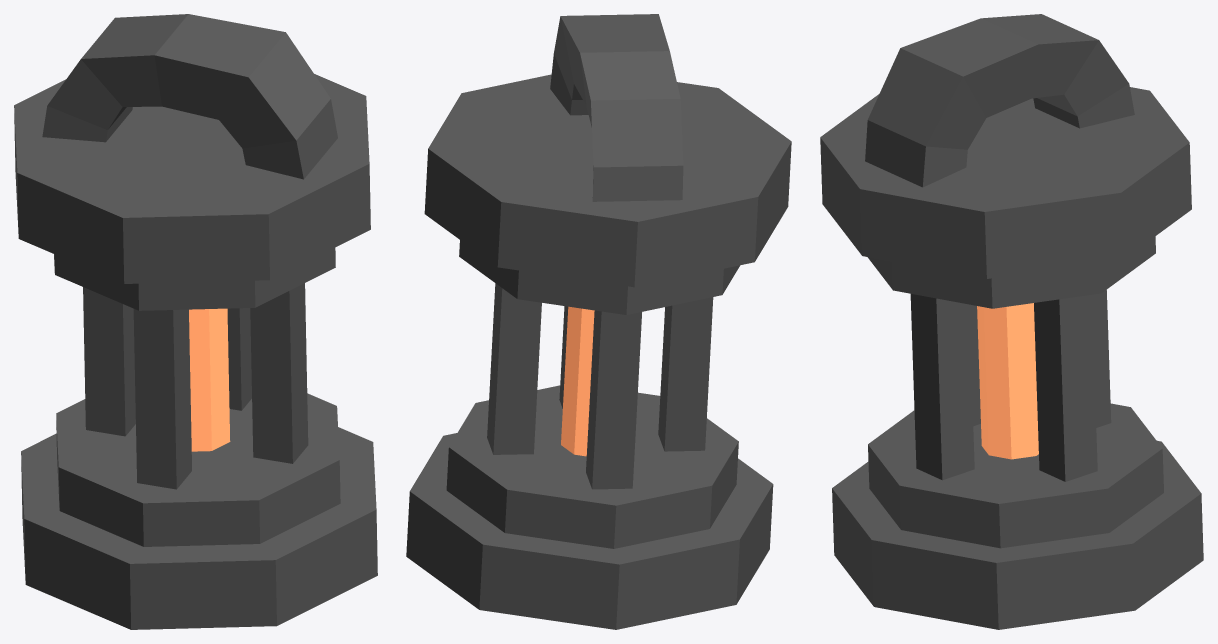
File: Lantern.fbx
The picture shows the model from 3 angles, left to right: view 1: azimuth 30°, elevation 25°; view 2: azimuth 150°, elevation 25°; view 3: azimuth 270°, elevation 25°; orthographic projection. The views are drawn at different scales.
Visible parts, largest first — view 1: Lantern.002; view 2: Lantern.002; view 3: Lantern.002.
Boxes of the visible parts, x1,y1,x2,y2 form: Lantern.002: (14,14,377,629); Lantern.002: (406,14,791,629); Lantern.002: (820,14,1203,629).
Bounding box in the file's own units: 71.51 × 106 × 70.89.
